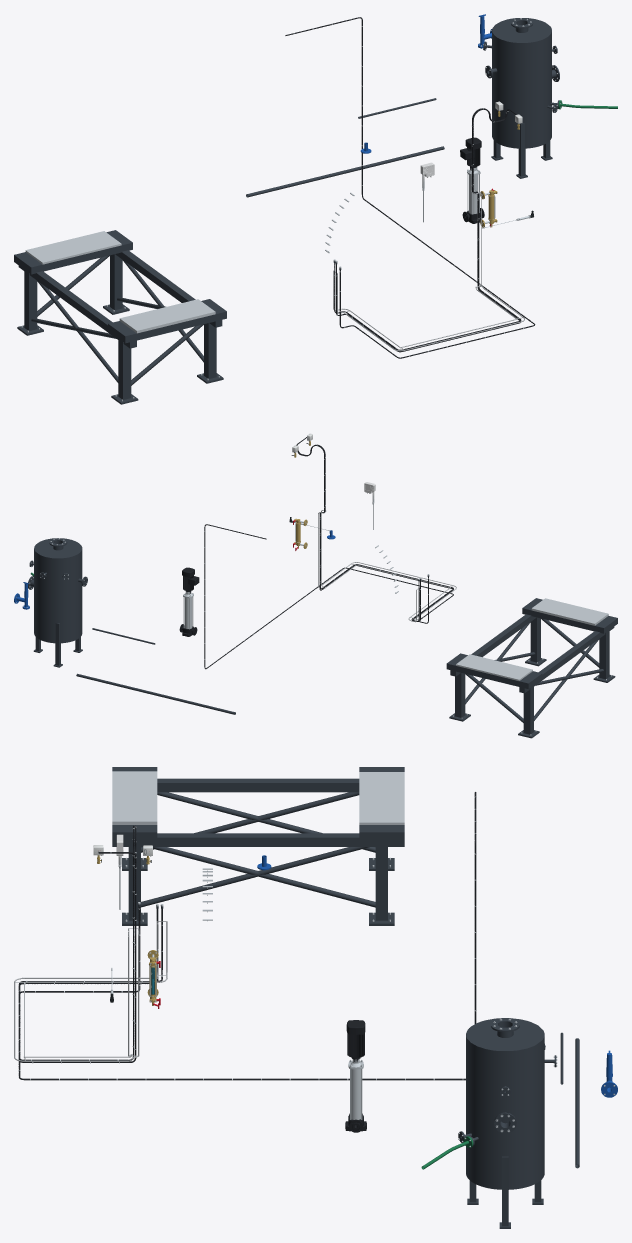
3 renders of one model, top to bottom at view 1: azimuth 30°, elevation 25°; view 2: azimuth 150°, elevation 25°; view 3: azimuth 270°, elevation 25°, orthographic. The views are drawn at different scales.
Parts seen in each view (by area): view 1: deaerator_support / dark, separator_bdv60_5 / dark, deaerator_support / steel, mod_direct_drive_cable / black, cables / zinc, wiring_pressure_switch_2 / black, bottom_discharge / dark, wiring_pressure_switch_1 / black; view 2: deaerator_support / dark, separator_bdv60_5 / dark, deaerator_support / steel, mod_direct_drive_cable / black, cables / zinc, bottom_discharge / dark, wiring_pressure_switch_1 / black, wiring_pressure_switch_2 / black; view 3: deaerator_support / dark, separator_bdv60_5 / dark, deaerator_support / steel, mod_direct_drive_cable / black, cables / zinc, wiring_pressure_switch_2 / black, wiring_pressure_switch_1 / black, pump_2 CAD solid 15, bottom_discharge / dark.
Part boxes in pixels (bbox=[...]): deaerator_support / dark: bbox=[14, 230, 226, 404]; separator_bdv60_5 / dark: bbox=[483, 18, 559, 178]; deaerator_support / steel: bbox=[21, 231, 219, 401]; mod_direct_drive_cable / black: bbox=[285, 17, 535, 358]; cables / zinc: bbox=[333, 190, 524, 351]; wiring_pressure_switch_2 / black: bbox=[334, 108, 521, 350]; bottom_discharge / dark: bbox=[246, 146, 444, 197]; wiring_pressure_switch_1 / black: bbox=[336, 108, 520, 352]; deaerator_support / dark: bbox=[446, 598, 617, 738]; separator_bdv60_5 / dark: bbox=[28, 538, 87, 667]; deaerator_support / steel: bbox=[452, 598, 611, 735]; mod_direct_drive_cable / black: bbox=[204, 524, 453, 669]; cables / zinc: bbox=[318, 510, 456, 622]; bottom_discharge / dark: bbox=[76, 673, 235, 714]; wiring_pressure_switch_1 / black: bbox=[296, 437, 453, 621]; wiring_pressure_switch_2 / black: bbox=[297, 442, 453, 621]; deaerator_support / dark: bbox=[112, 767, 404, 925]; separator_bdv60_5 / dark: bbox=[458, 1018, 556, 1228]; deaerator_support / steel: bbox=[112, 771, 404, 921]; mod_direct_drive_cable / black: bbox=[18, 792, 476, 1080]; cables / zinc: bbox=[14, 921, 167, 1061]; wiring_pressure_switch_2 / black: bbox=[18, 825, 162, 1060]; wiring_pressure_switch_1 / black: bbox=[18, 825, 158, 1062]; pump_2 CAD solid 15: bbox=[346, 1020, 365, 1058]; bottom_discharge / dark: bbox=[575, 1038, 579, 1168].
Bounding box in the file's own units: 9.01 × 2.87 × 5.87.
